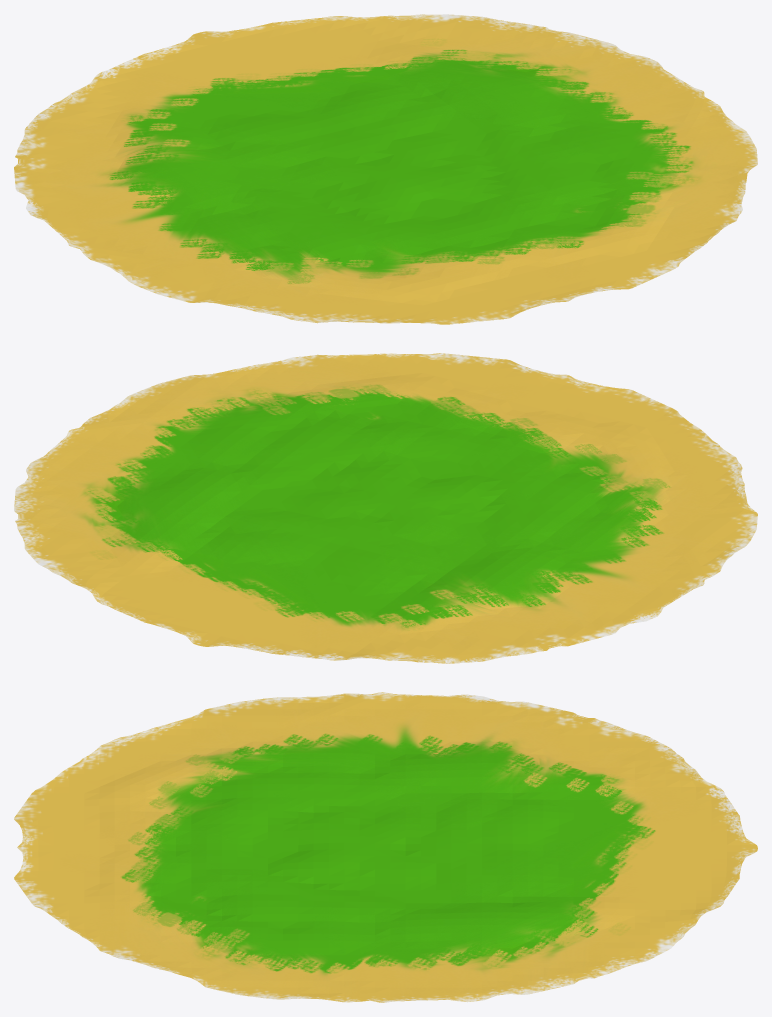
The model's file is isla.obj.
3 views of the same model, one above another, from view 1: azimuth 30°, elevation 25°; view 2: azimuth 150°, elevation 25°; view 3: azimuth 270°, elevation 25° (orthographic).
Parts seen in each view (by area): view 1: isla_Plane.007; view 2: isla_Plane.007; view 3: isla_Plane.007.
Part boxes in pixels (<box>): isla_Plane.007: <box>14,14,757,324</box>; isla_Plane.007: <box>14,353,757,663</box>; isla_Plane.007: <box>14,692,757,1002</box>.
Size of the model in its own units: 100 by 0.6805 by 102.
1 material, 1 textured.
